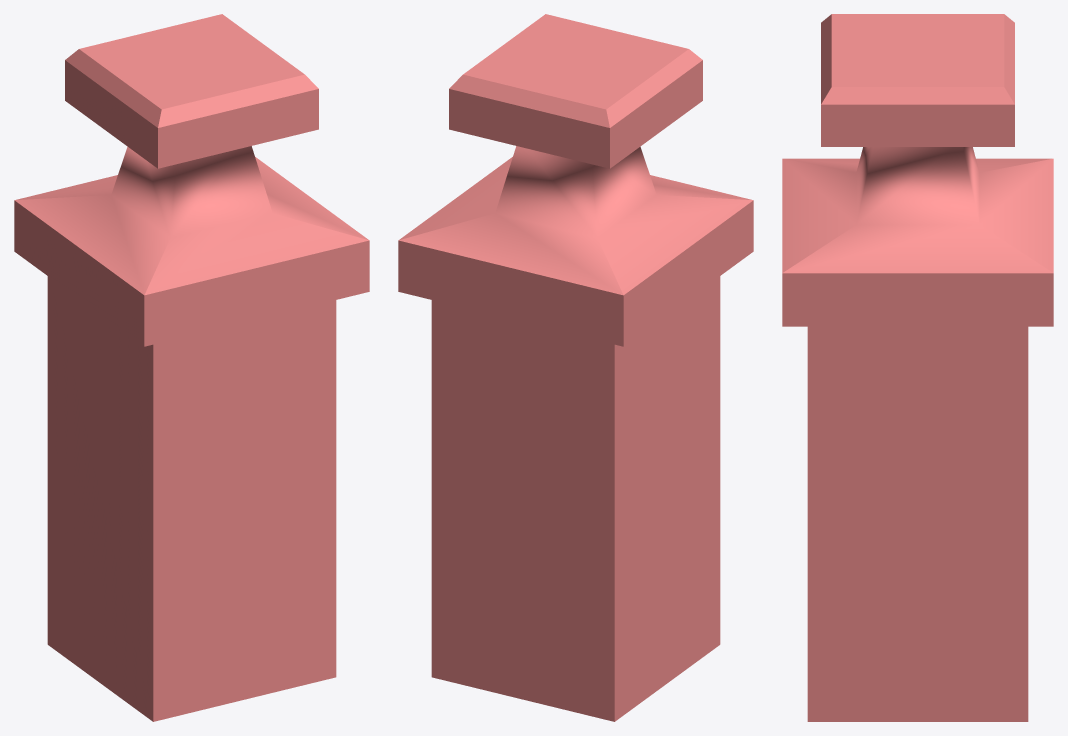
Rendered from entity430314.gltf.
3 views of the same model, side by side, from view 1: azimuth 30°, elevation 25°; view 2: azimuth 150°, elevation 25°; view 3: azimuth 270°, elevation 25° (orthographic). The views are drawn at different scales.
Visible parts, largest first — view 1: node_pCube83; view 2: node_pCube83; view 3: node_pCube83.
Part boxes in pixels (x1,y1,x2,y2): node_pCube83: (14,14,369,721); node_pCube83: (398,14,753,721); node_pCube83: (782,14,1053,721).
Size of the model in its own units: 2.46 by 6.25 by 2.46.
